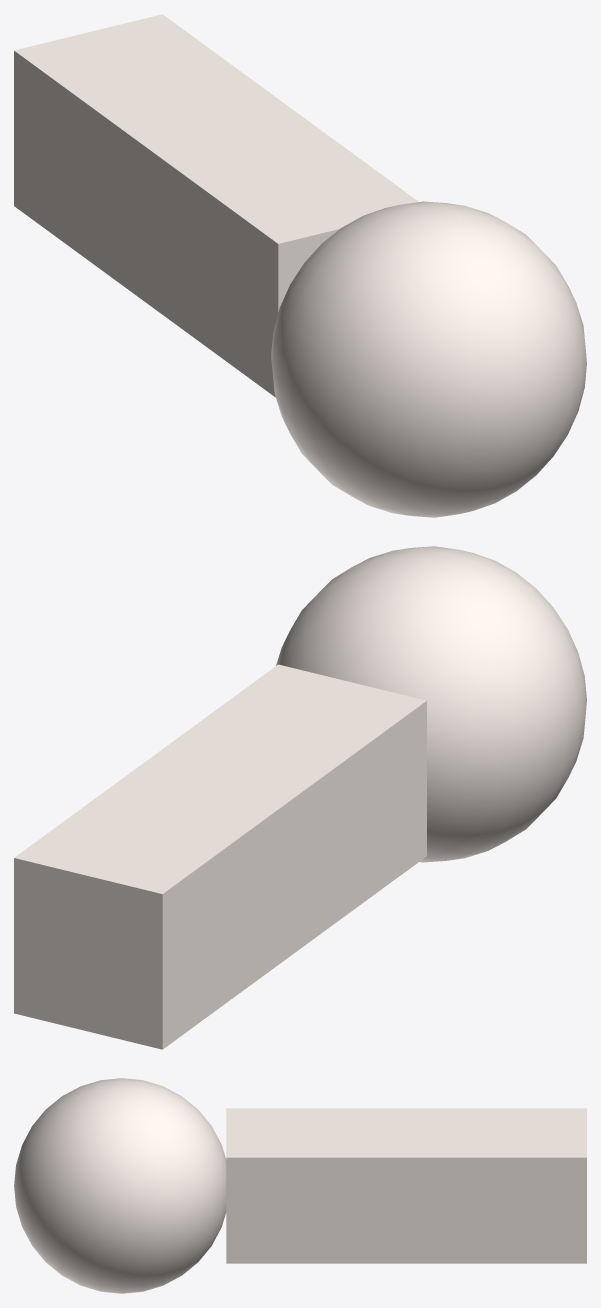
Rendered from player.glb.
3 views of the same model, one above another, from view 1: azimuth 30°, elevation 25°; view 2: azimuth 150°, elevation 25°; view 3: azimuth 270°, elevation 25° (orthographic). The views are drawn at different scales.
Visible parts, largest first — view 1: Dummy; view 2: Dummy; view 3: Dummy.
Part boxes in pixels (<box>): Dummy: <box>14,14,586,517</box>; Dummy: <box>14,546,586,1049</box>; Dummy: <box>14,1078,586,1293</box>.
Bounding box in the file's own units: 0.6227 × 0.6227 × 1.65.
Materials: 1 (1 with a texture image).
